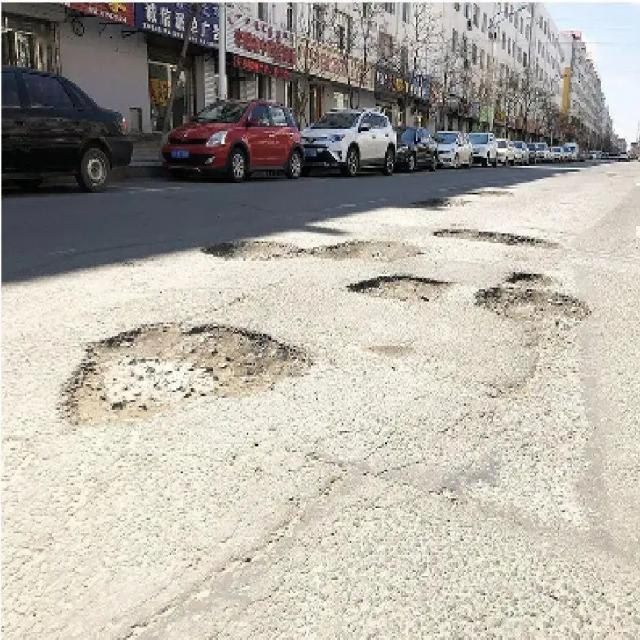pothole: (62, 324, 309, 432), (477, 273, 590, 339), (198, 237, 424, 268), (345, 274, 457, 310), (430, 226, 566, 254), (449, 183, 516, 200), (415, 198, 473, 213)
